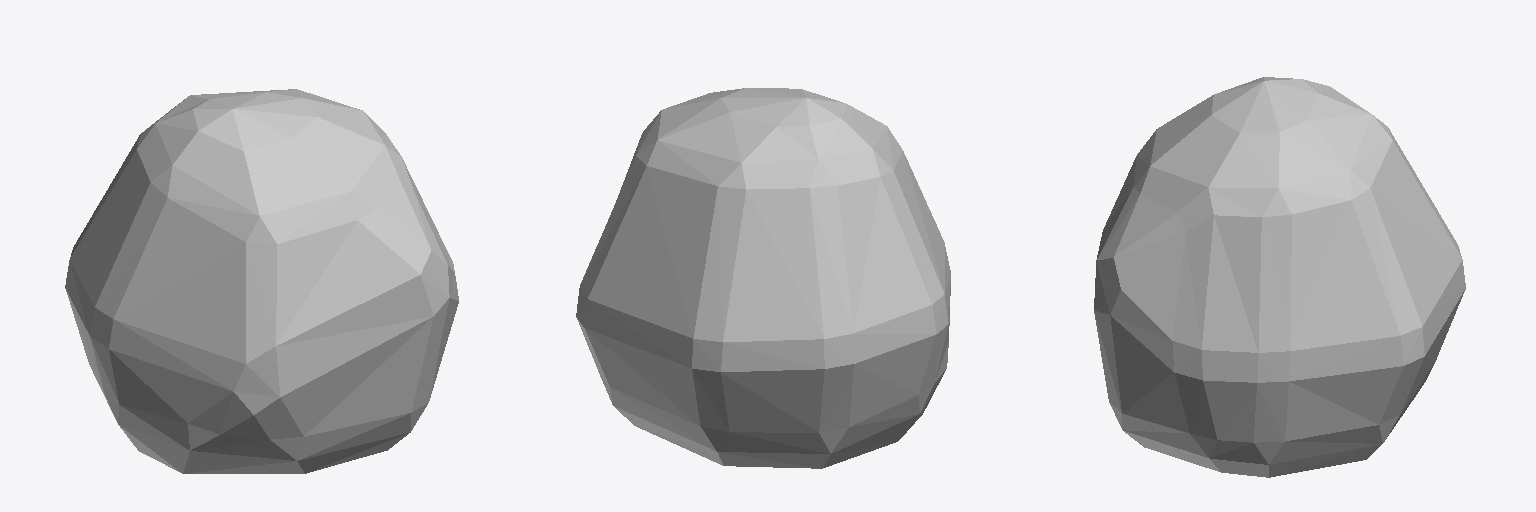
The model's file is rock.obj.
3 renders of one model, left to right at view 1: azimuth 30°, elevation 25°; view 2: azimuth 150°, elevation 25°; view 3: azimuth 270°, elevation 25°, orthographic.
Visible parts, largest first — view 1: Body__mBody; view 2: Body__mBody; view 3: Body__mBody.
Part boxes in pixels (left/top/right/bottom): Body__mBody: left=65, top=89, right=458, bottom=473; Body__mBody: left=576, top=88, right=950, bottom=468; Body__mBody: left=1094, top=77, right=1465, bottom=477.
Bounding box in the file's own units: 3.27 × 3 × 3.15.